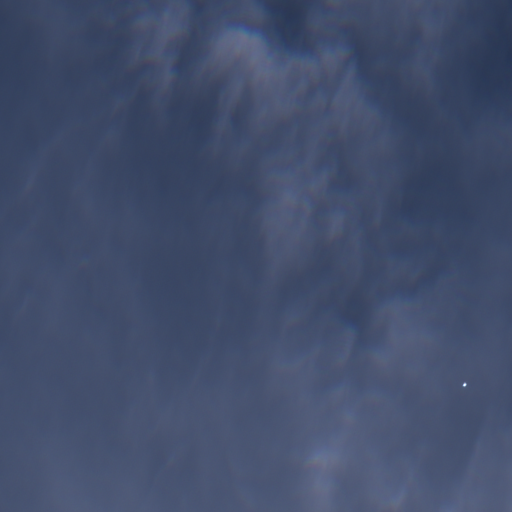Iceberg: (462, 382, 466, 386)
